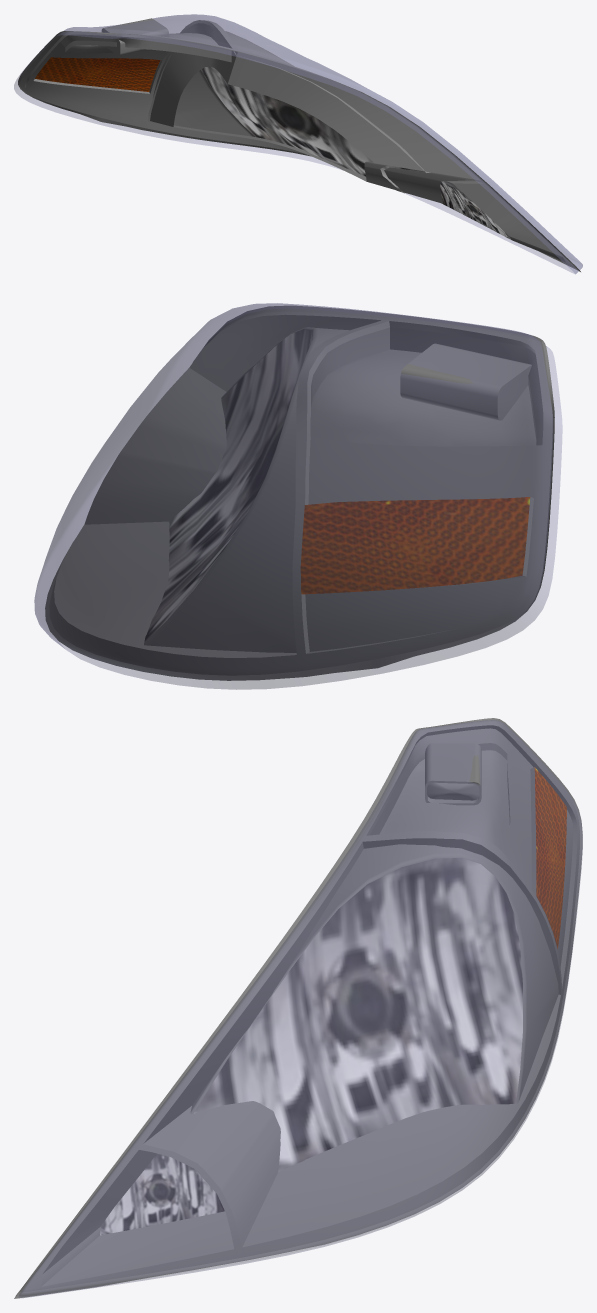
The picture shows the model from 3 angles, top to bottom: view 1: azimuth 30°, elevation 25°; view 2: azimuth 150°, elevation 25°; view 3: azimuth 270°, elevation 25°; orthographic projection. The views are drawn at different scales.
Visible parts, largest first — view 1: Z020_061B_L_Z020_061B_L_4_DaS, Z020_061B_L_Z020_061B_L_6_DTaSI, Z020_061B_L_Z020_061B_L_3_N, Z020_061B_L_Z020_061B_L_5_N, Z020_061B_L_2_N_Z020_061B_L; view 2: Z020_061B_L_Z020_061B_L_6_DTaSI, Z020_061B_L_Z020_061B_L_4_DaS, Z020_061B_L_Z020_061B_L_5_N, Z020_061B_L_Z020_061B_L_3_N; view 3: Z020_061B_L_Z020_061B_L_6_DTaSI, Z020_061B_L_Z020_061B_L_4_DaS, Z020_061B_L_Z020_061B_L_3_N, Z020_061B_L_2_N_Z020_061B_L, Z020_061B_L_Z020_061B_L_5_N.
Part boxes in pixels (<box>): Z020_061B_L_Z020_061B_L_4_DaS: <box>18,18,580,271</box>; Z020_061B_L_Z020_061B_L_6_DTaSI: <box>14,14,582,274</box>; Z020_061B_L_Z020_061B_L_3_N: <box>201,66,424,193</box>; Z020_061B_L_Z020_061B_L_5_N: <box>35,57,160,91</box>; Z020_061B_L_2_N_Z020_061B_L: <box>440,181,510,239</box>; Z020_061B_L_Z020_061B_L_6_DTaSI: <box>34,303,562,689</box>; Z020_061B_L_Z020_061B_L_4_DaS: <box>45,306,554,680</box>; Z020_061B_L_Z020_061B_L_5_N: <box>300,497,530,594</box>; Z020_061B_L_Z020_061B_L_3_N: <box>144,329,312,642</box>; Z020_061B_L_Z020_061B_L_6_DTaSI: <box>19,720,582,1297</box>; Z020_061B_L_Z020_061B_L_4_DaS: <box>14,718,582,1298</box>; Z020_061B_L_Z020_061B_L_3_N: <box>194,858,522,1171</box>; Z020_061B_L_2_N_Z020_061B_L: <box>100,1153,224,1235</box>; Z020_061B_L_Z020_061B_L_5_N: <box>534,767,566,948</box>.
Bounding box in the file's own units: 58.95 × 32.78 × 50.19.
